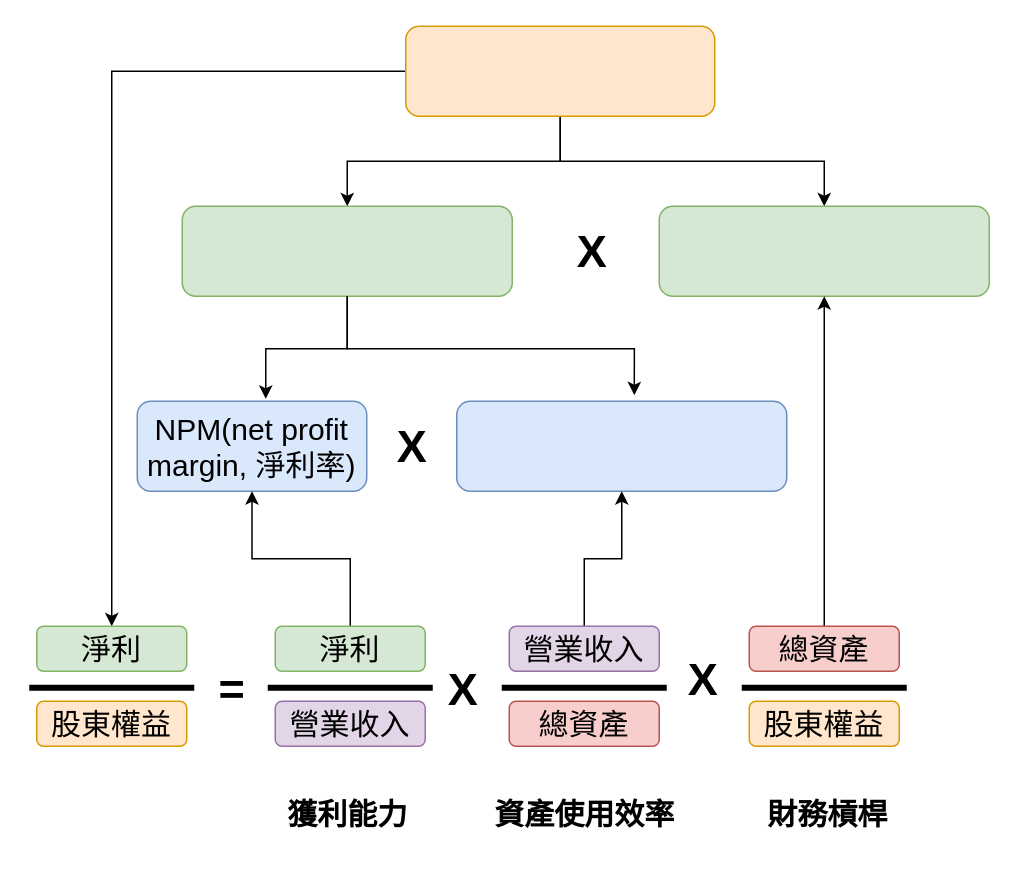
This 1016x870 diagram has some shape labels left out. The centre of each missing label's shape, as x and y in pixels:
EM(Equity Multiplier, 權益乘數): pixel 823 250
ROA(總資產報酬率): pixel 346 250
ROE(股東權益報酬率): pixel 559 70
TAT(total asset turnover, 總資產週轉率): pixel 621 445
